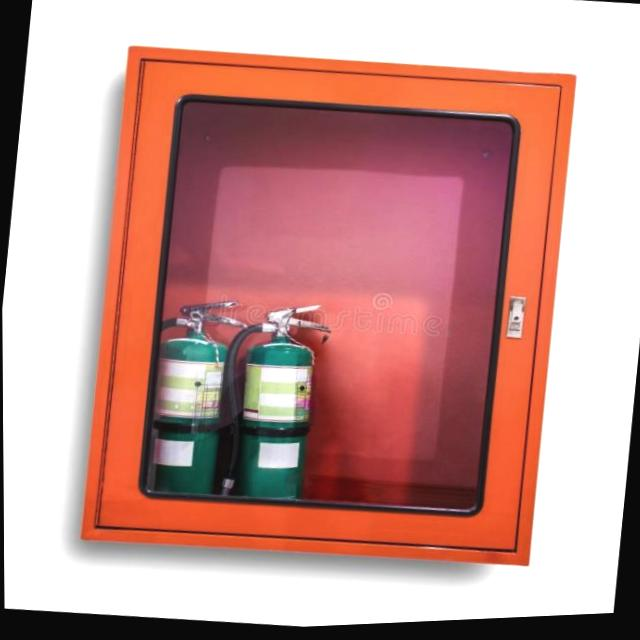FireExtinguisher: (118, 290, 255, 514), (206, 294, 338, 523)
